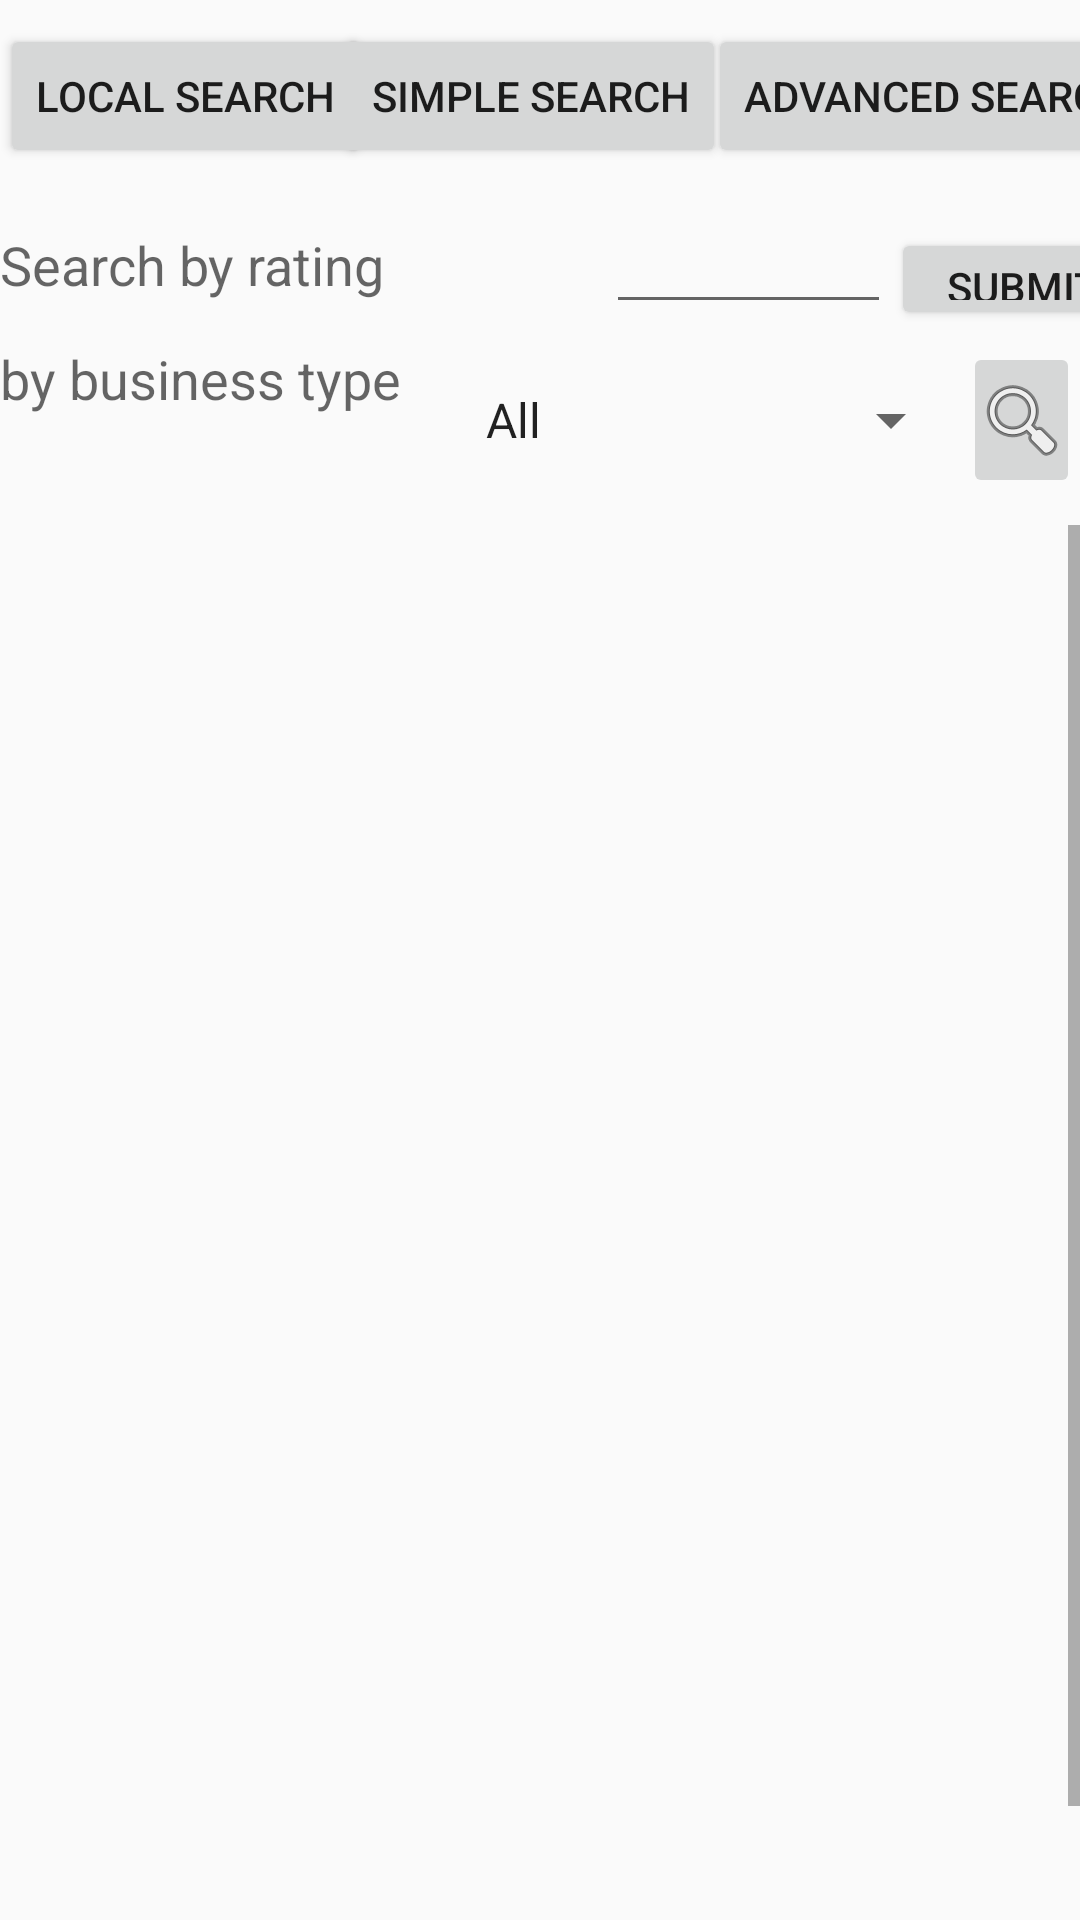

Icon click points for this 1080w x 1920h phone screenshot, format [x,y]:
search: [1021,420]
